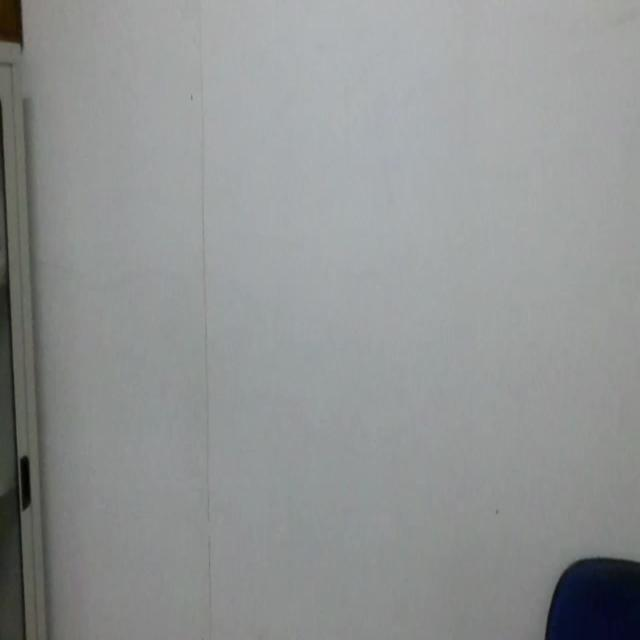Crack: (189, 0, 219, 640)
